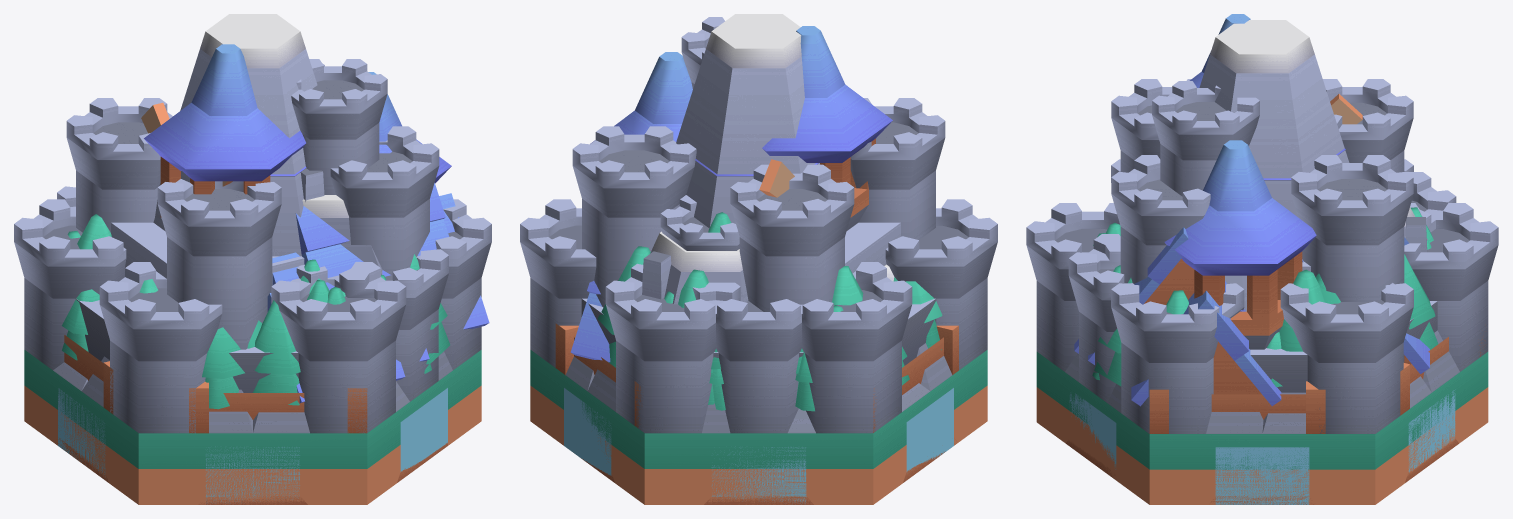
The model's file is hex.glb.
The picture shows the model from 3 angles, left to right: view 1: azimuth 30°, elevation 25°; view 2: azimuth 150°, elevation 25°; view 3: azimuth 270°, elevation 25°; orthographic projection.
Visible parts, largest first — view 1: building-walls, building-castle, building-wizard-tower, bridge, stone-mountain, river-crossing, building-wall, building-archery, river-intersectionB, building-sheep, building-port, river-corner (+11 smaller); view 2: building-walls, building-castle, stone-mountain, bridge, building-wizard-tower, building-wall, river-intersectionB, building-archery, river-intersectionH, building-sheep, river-corner, river-corner-sharp (+11 smaller); view 3: building-walls, building-castle, building-archery, bridge, stone-mountain, building-wizard-tower, building-wall, river-crossing, building-sheep, building-dock, river-intersectionF, river-corner (+11 smaller).
Boxes of the visible parts, <box> form: building-walls: <box>14,199,491,433</box>; building-castle: <box>66,63,439,349</box>; building-wizard-tower: <box>144,44,387,302</box>; bridge: <box>24,254,481,504</box>; stone-mountain: <box>53,14,452,433</box>; river-crossing: <box>26,350,481,504</box>; building-wall: <box>57,186,448,405</box>; building-archery: <box>24,72,451,504</box>; river-intersectionB: <box>26,389,377,503</box>; building-sheep: <box>64,335,367,433</box>; building-port: <box>295,183,449,290</box>; river-corner: <box>58,390,354,468</box>; building-walls: <box>520,199,997,433</box>; building-castle: <box>572,98,945,311</box>; stone-mountain: <box>565,14,952,433</box>; bridge: <box>530,350,987,504</box>; building-wizard-tower: <box>660,17,892,250</box>; building-wall: <box>597,246,909,433</box>; river-intersectionB: <box>531,386,987,504</box>; building-archery: <box>570,52,987,502</box>; river-intersectionH: <box>531,353,852,504</box>; building-sheep: <box>555,323,958,432</box>; river-corner: <box>530,351,953,503</box>; river-corner-sharp: <box>644,386,987,504</box>; building-walls: <box>1026,159,1498,433</box>; building-castle: <box>1111,79,1431,387</box>; building-archery: <box>1092,140,1429,504</box>; bridge: <box>1036,278,1488,504</box>; stone-mountain: <box>1065,20,1459,433</box>; building-wizard-tower: <box>1106,14,1259,235</box>; building-wall: <box>1068,172,1456,402</box>; river-crossing: <box>1039,355,1484,504</box>; building-sheep: <box>1149,336,1485,433</box>; building-dock: <box>1131,290,1281,406</box>; river-intersectionF: <box>1036,352,1487,470</box>; river-corner: <box>1036,353,1488,504</box>.
Size of the model in its own units: 1.04 by 1.09 by 1.21.
1 material, 1 textured.
